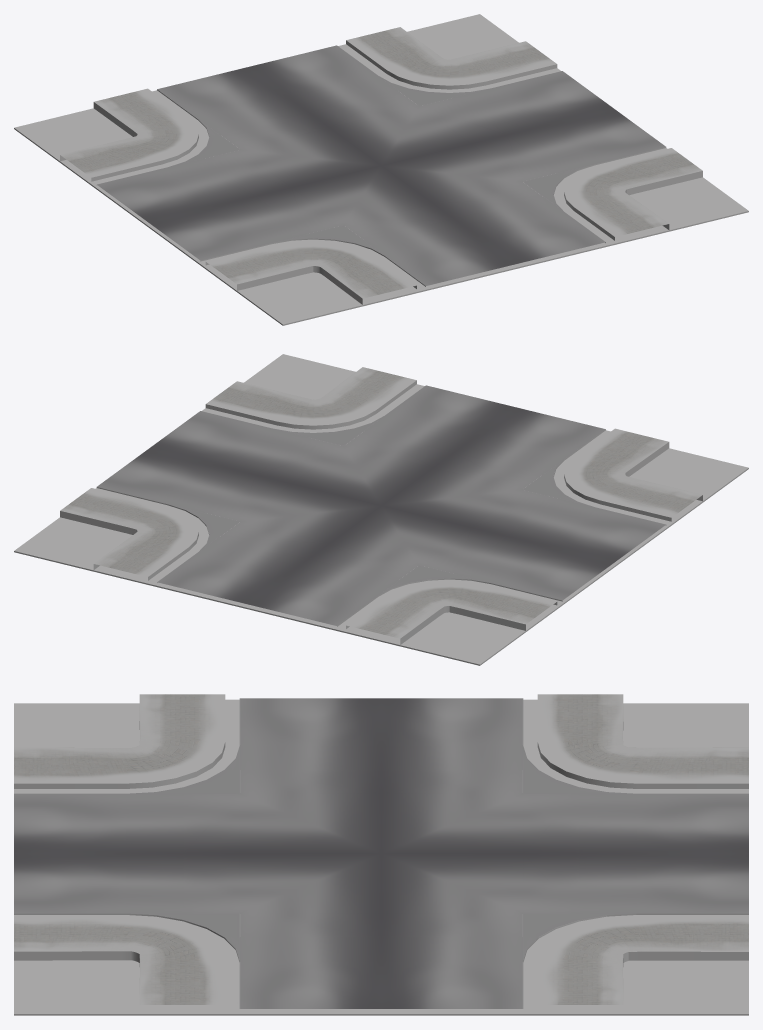
File: Intersection_Curved.fbx
3 renders of one model, top to bottom at view 1: azimuth 30°, elevation 25°; view 2: azimuth 150°, elevation 25°; view 3: azimuth 270°, elevation 25°, orthographic. The views are drawn at different scales.
Parts seen in each view (by area): view 1: Road_10X37, Road_10X43; view 2: Road_10X37, Road_10X43; view 3: Road_10X37, Road_10X43.
Boxes of the visible parts, bbox=[...] form: Road_10X37: bbox=[60, 27, 702, 304]; Road_10X43: bbox=[14, 14, 748, 325]; Road_10X37: bbox=[60, 367, 702, 644]; Road_10X43: bbox=[14, 354, 748, 665]; Road_10X37: bbox=[14, 694, 748, 1010]; Road_10X43: bbox=[14, 703, 748, 1015].
Size of the model in its own units: 1000 by 15.99 by 1000.
